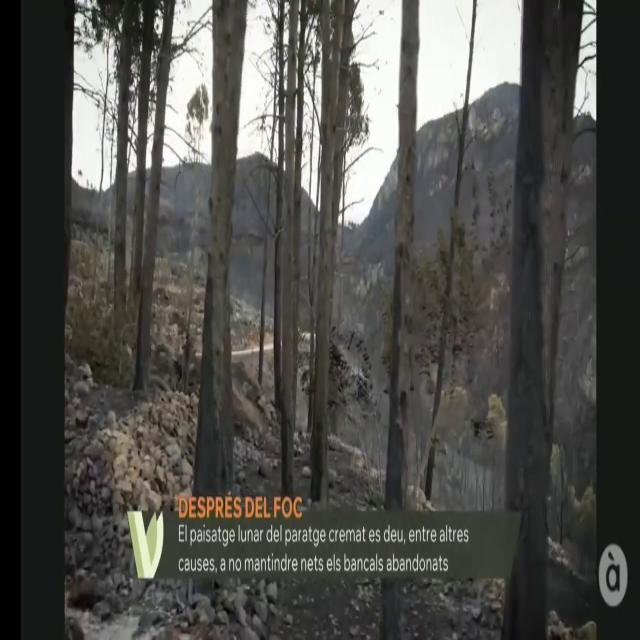Fire: (178, 479, 304, 526)
